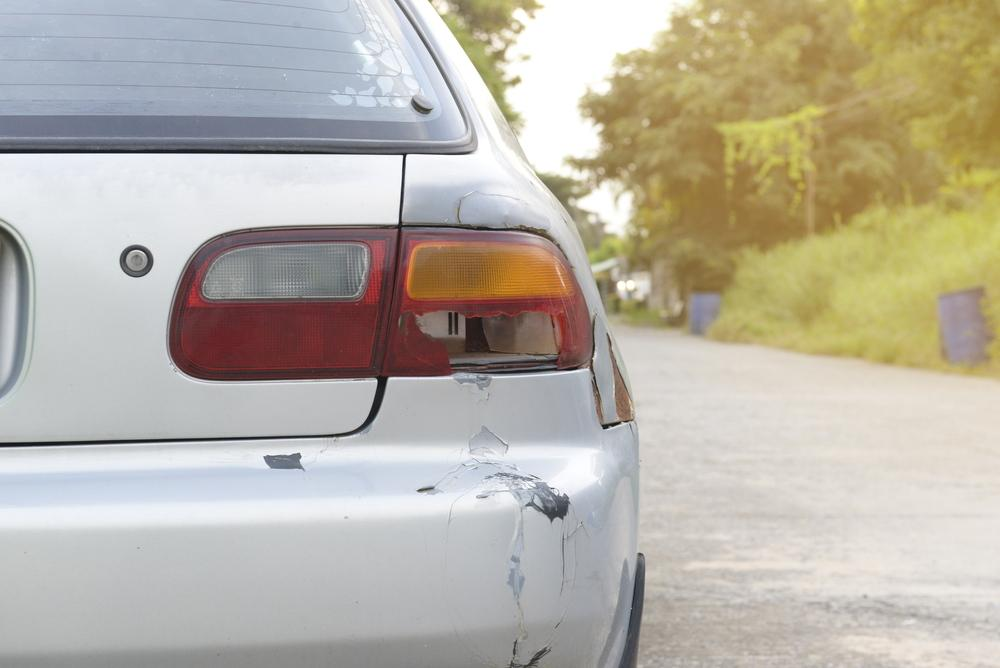lamp broken: (377, 225, 593, 378)
scratch: (424, 416, 591, 668)
